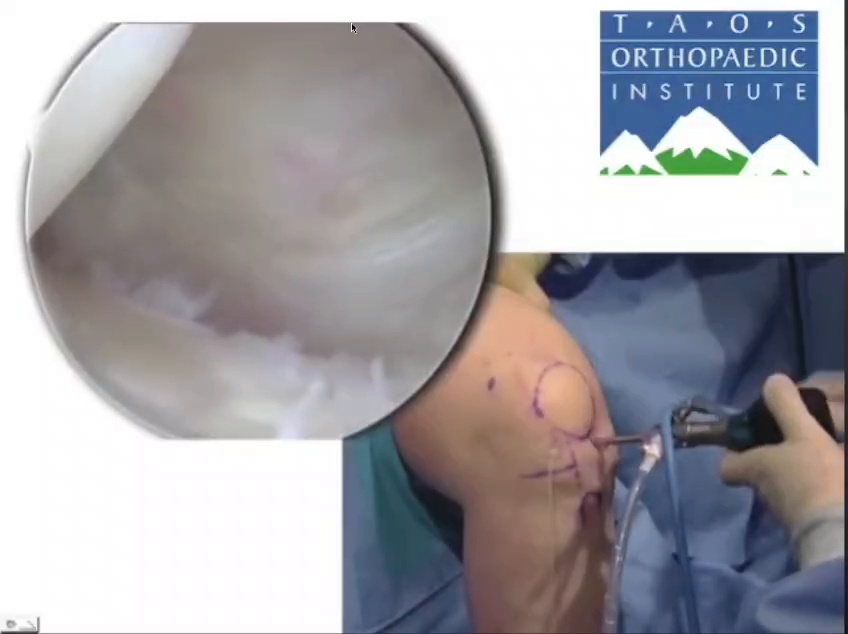arthroscope: (506, 270, 751, 618)
probe: (738, 365, 848, 593), (492, 486, 592, 555)
